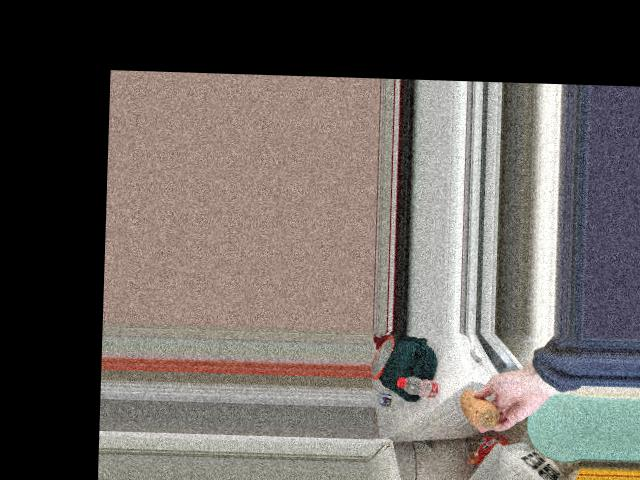sweet_potato: (459, 385, 505, 426)
